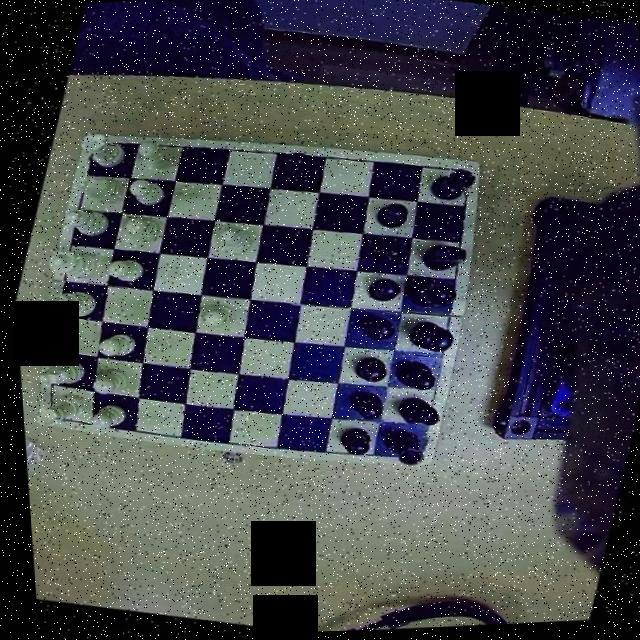chess-table-corners: (440, 162, 480, 199), (391, 433, 431, 470), (80, 131, 118, 165), (33, 398, 66, 428)
